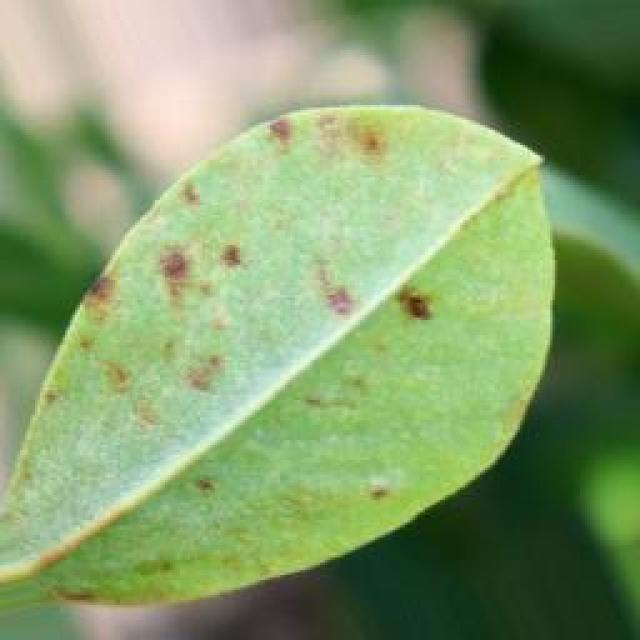Whitefly: (63, 113, 497, 572)
